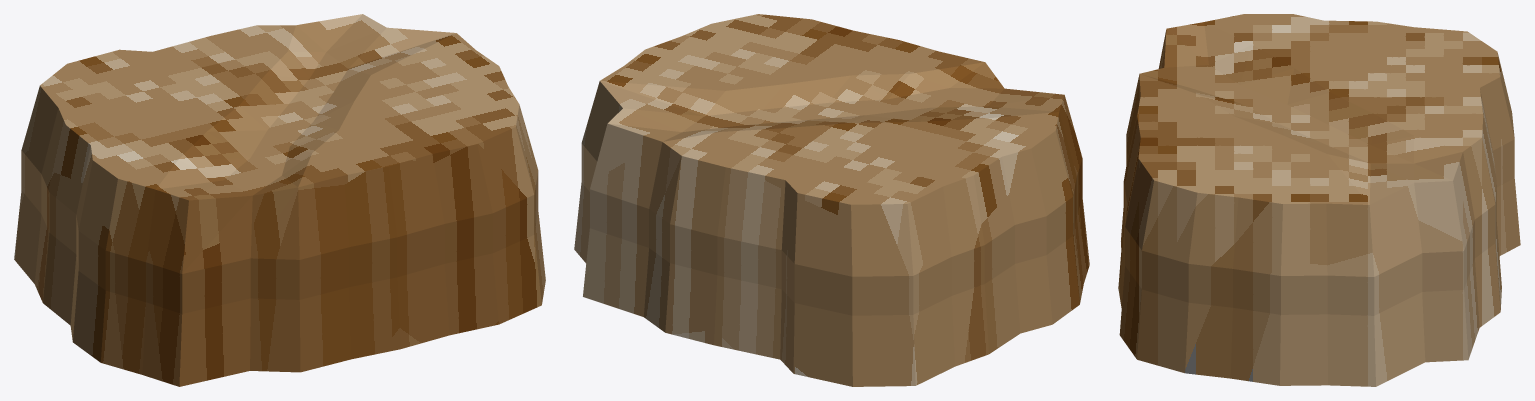
The model's file is Rock_341x07.gltf.
The picture shows the model from 3 angles, left to right: view 1: azimuth 30°, elevation 25°; view 2: azimuth 150°, elevation 25°; view 3: azimuth 270°, elevation 25°; orthographic projection. The views are drawn at different scales.
Visible parts, largest first — view 1: Rock_341x07; view 2: Rock_341x07; view 3: Rock_341x07.
Boxes of the visible parts, x1=… form: Rock_341x07: x1=14, y1=14, x2=545, y2=386; Rock_341x07: x1=574, y1=14, x2=1089, y2=386; Rock_341x07: x1=1118, y1=14, x2=1520, y2=386.
Size of the model in its own units: 2.14 by 0.807 by 1.72.
1 material, 1 textured.
